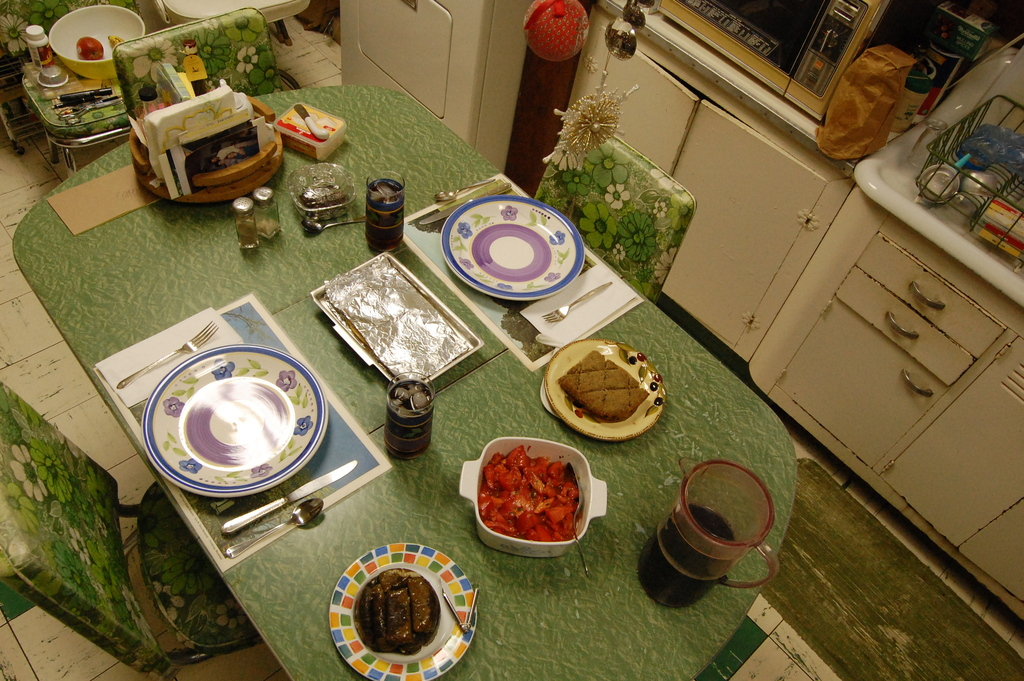plate: (137, 349, 313, 494), (442, 197, 586, 298)
